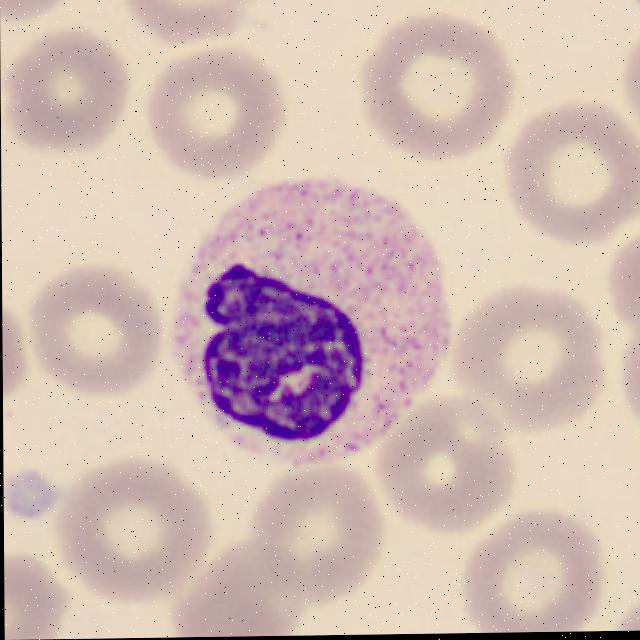neutrophil: (165, 175, 451, 482)
rbc: (440, 294, 597, 426), (58, 461, 213, 591), (369, 10, 509, 148), (373, 396, 509, 527), (251, 463, 376, 592), (468, 508, 597, 633), (514, 111, 640, 238), (34, 262, 157, 389), (14, 30, 118, 157), (181, 540, 317, 637), (155, 56, 276, 165), (4, 556, 71, 640), (142, 0, 262, 38), (605, 228, 640, 322), (2, 300, 29, 399), (615, 36, 640, 115), (600, 589, 640, 631), (0, 0, 63, 20), (626, 333, 640, 419)
